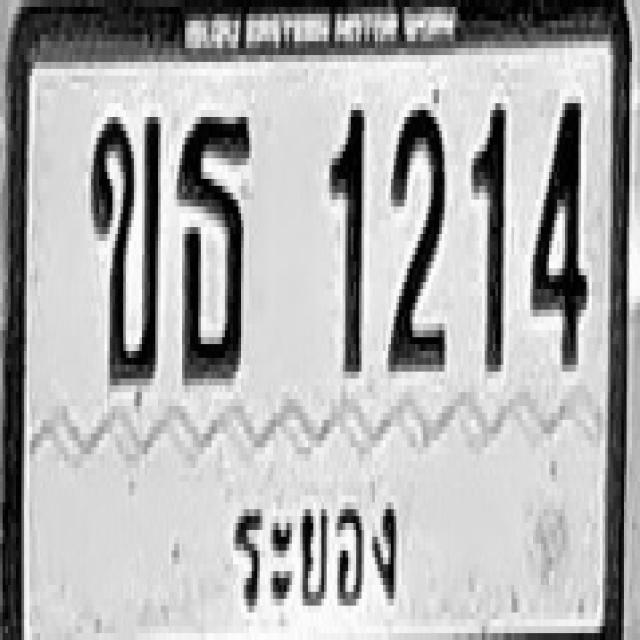1: (471, 100, 506, 368), (330, 103, 364, 372)
11KhorKhai: (90, 110, 159, 385)
2: (388, 103, 444, 372)
33ThorThong: (177, 110, 249, 379)
4: (530, 96, 586, 365)
Rayong: (225, 489, 411, 628)
